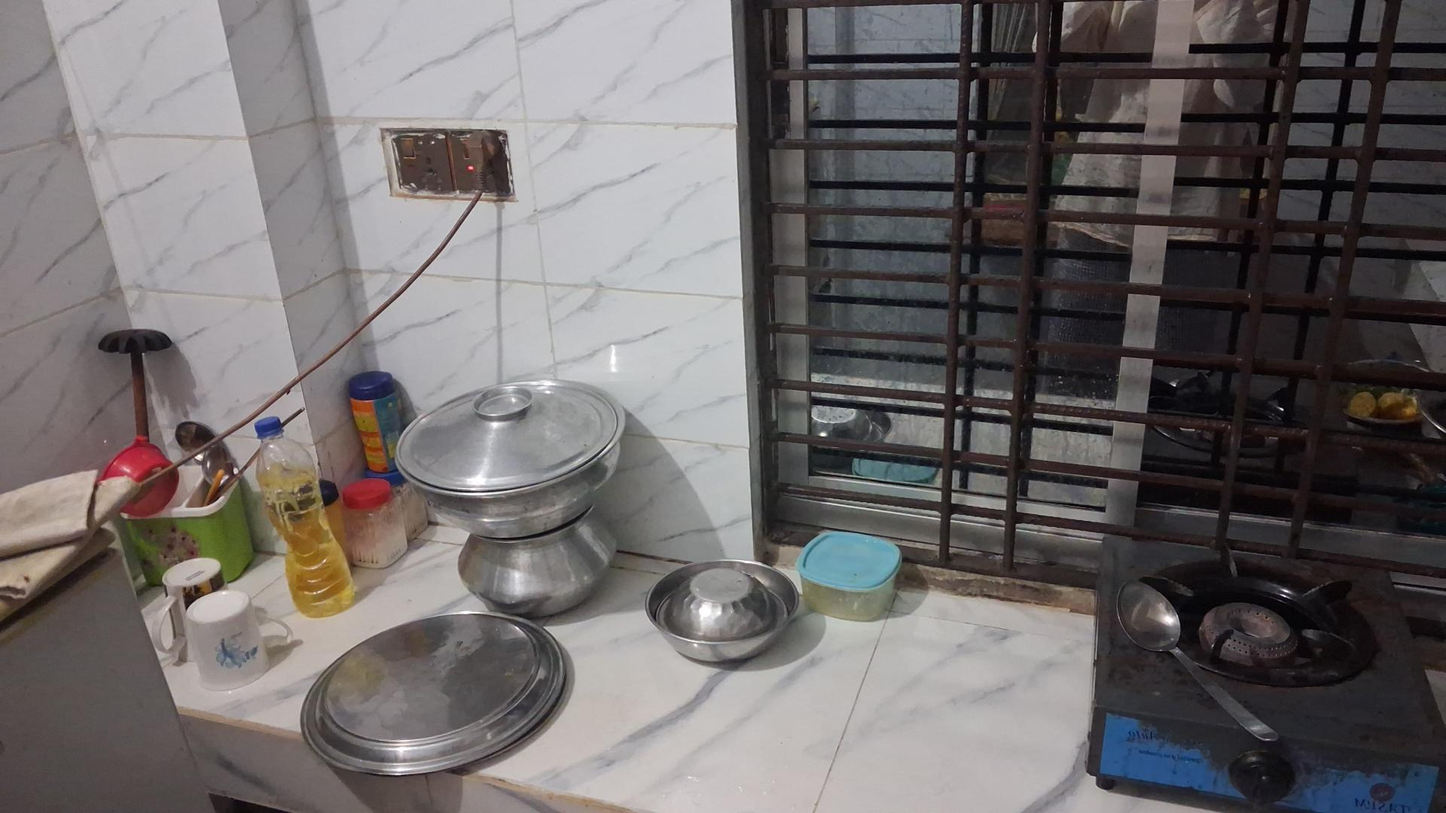Bottle: (255, 422, 355, 614)
Bowl: (647, 556, 791, 667)
Cup: (178, 593, 290, 683)
Jar: (799, 529, 905, 627), (347, 475, 409, 572), (350, 375, 396, 475)
Plate: (305, 614, 565, 784)
Pot: (393, 377, 626, 531), (449, 521, 619, 617)
